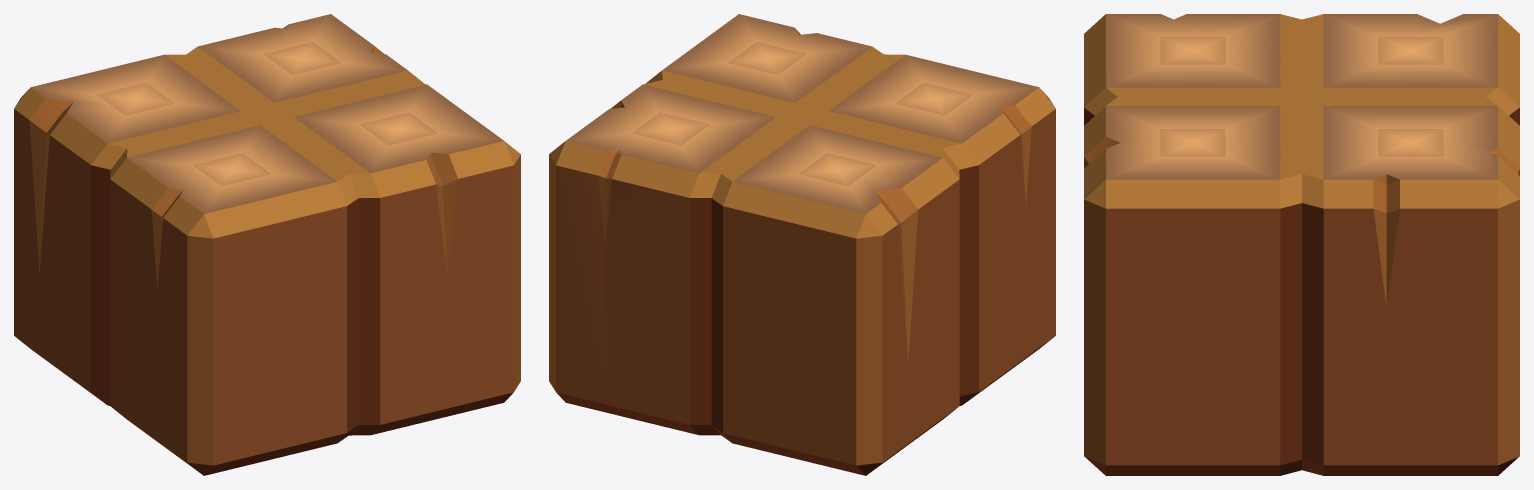
The model's file is m_kub_wood_cubeMid.FBX.
3 views of the same model, side by side, from view 1: azimuth 30°, elevation 25°; view 2: azimuth 150°, elevation 25°; view 3: azimuth 270°, elevation 25° (orthographic). The views are drawn at different scales.
Parts seen in each view (by area): view 1: m_kub_wood_cubeMid; view 2: m_kub_wood_cubeMid; view 3: m_kub_wood_cubeMid.
Boxes of the visible parts, x1,y1,x2,y2 form: m_kub_wood_cubeMid: [14, 14, 520, 475]; m_kub_wood_cubeMid: [549, 14, 1055, 475]; m_kub_wood_cubeMid: [1084, 14, 1519, 475].
Size of the model in its own units: 2 by 1.5 by 2.
